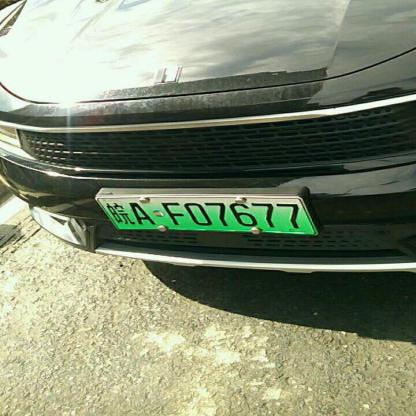lp: (96, 198, 316, 234)
